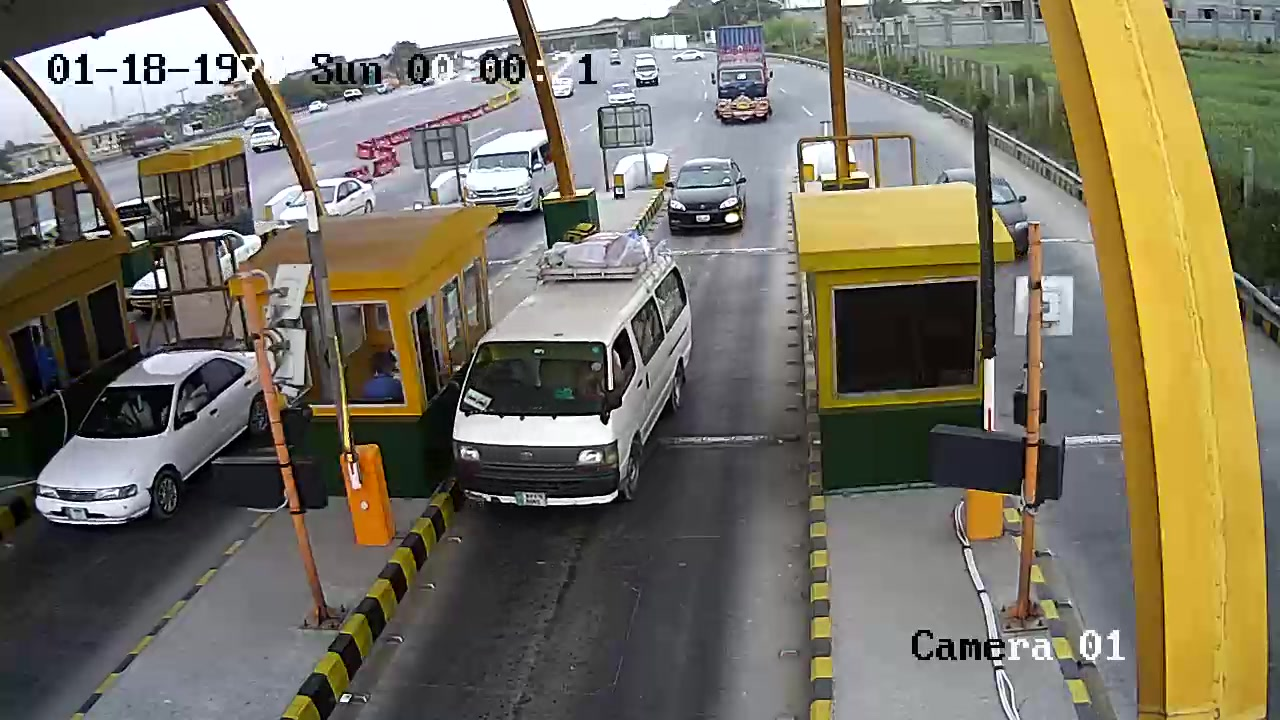F3: (442, 246, 699, 530)
